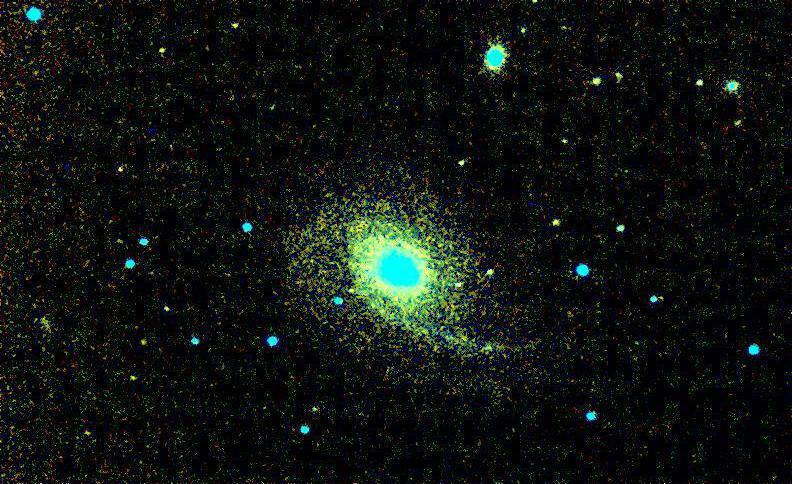star: (75, 424, 105, 454)
